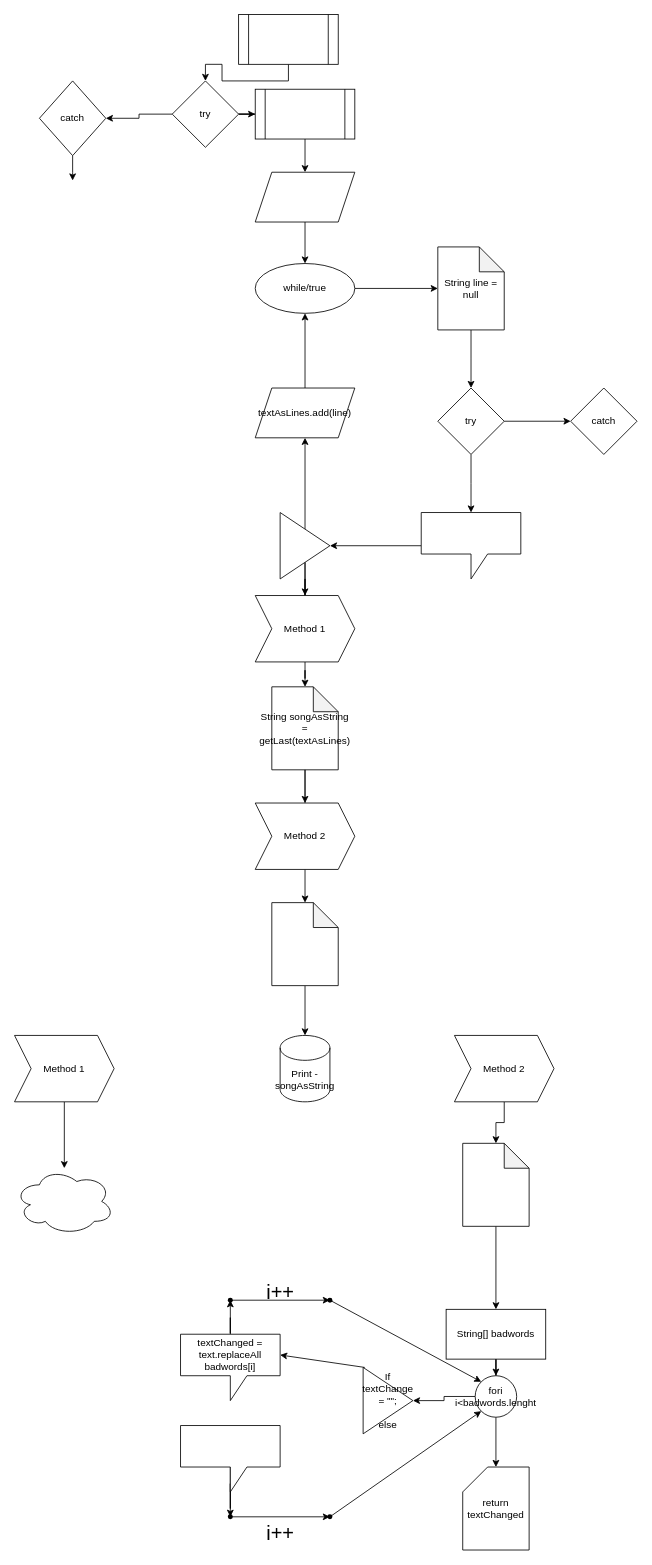
The diagram is 652 pixels wide and 1565 high, and some of its shapes have lost their labels. The shapes that lost their labels are listed below. From the top down, each one's box as (x1, y1, x2, y2) in pixels, then its label:
(238, 14, 338, 64): Reader(Bufferreader)
(254, 88, 355, 139): new Bufferreader
(254, 171, 355, 222): arraylist<>textAsLines
(279, 512, 330, 579): if line!=null esle - break
(420, 512, 521, 579): line = bufferreader.readLine()
(271, 902, 338, 986): String songChanged = textChanged(songAsString)
(14, 1167, 114, 1235): returns only the last row of an Arraylist as String
(462, 1142, 529, 1226): String textChanged = "";
(180, 1425, 280, 1492): textChanged = textChanged.replaceAll badwords [i]
